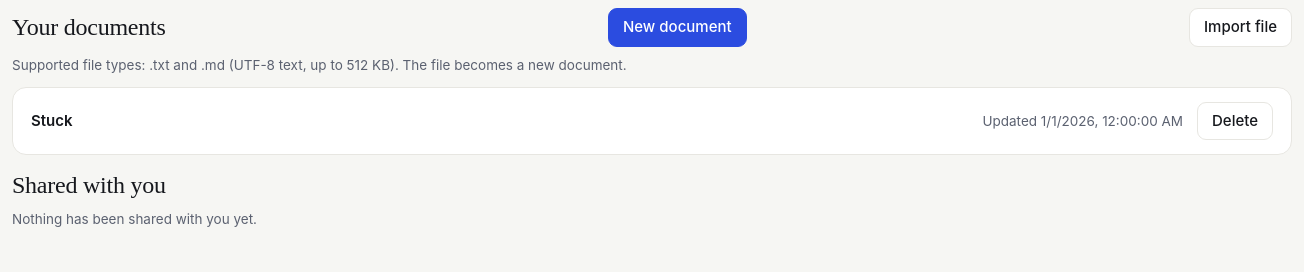
it: Document CRUD (UI): create and delete › [NFR-ERR] a failed delete shows an error and keeps the document listed
The image size is (1304, 272).
Click the button with aria-label "Delete Stuck" at (1235, 121), box [1197,102,1273,140]
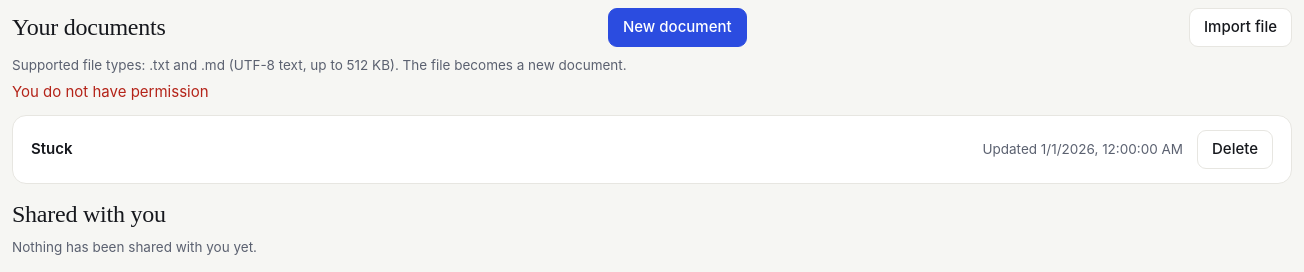
Expected: the link "Stuck" is shown, [31,139,72,158]
Result: the message reads "You do not have permission" at [12,82,209,101]
